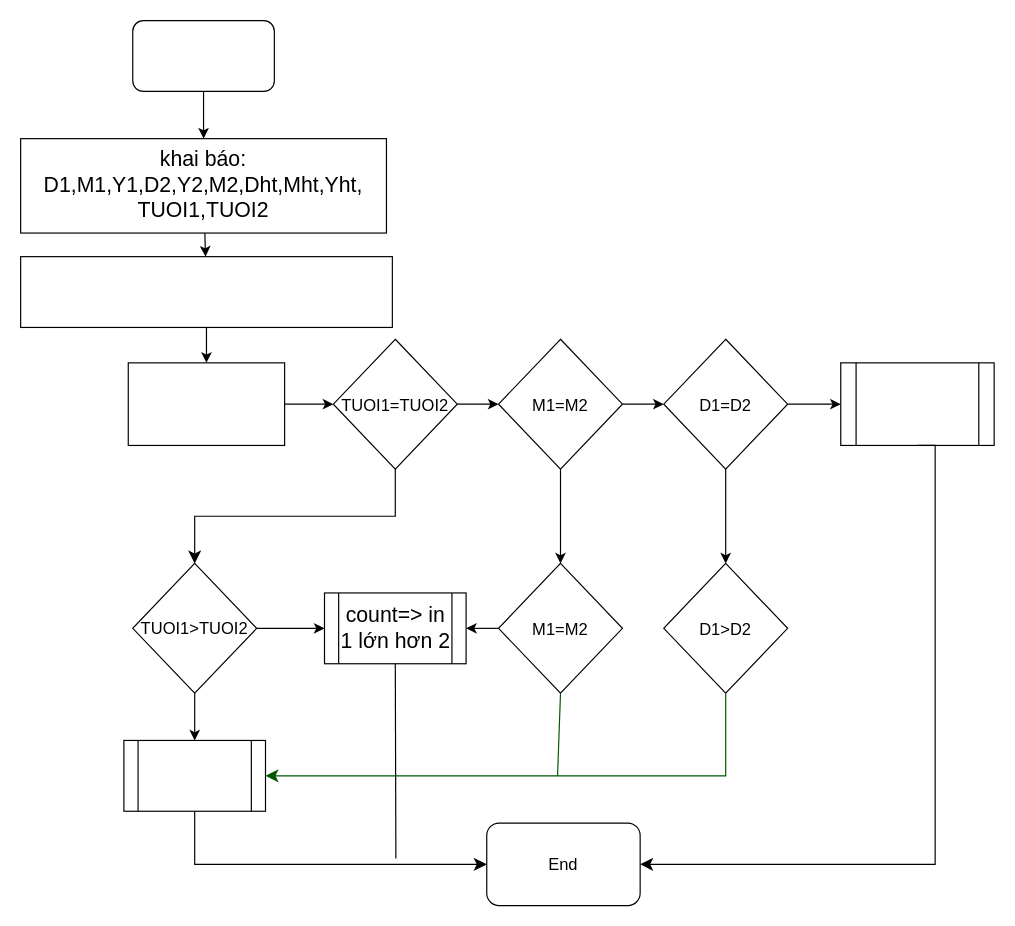
This 1015x926 diagram has some shape labels left out. Here are the shapes that lost their labels. From the top down, the centre of each, then its label:
At (203,55): "start".
At (205,291): "nhập D1,M1,Y1,D2,M2,Y2,Dht,Mht,Yht".
At (206,403): "TUOI1=Yht-Y1 TUOI2=Yht-Y1".
At (917,403): "count=>in1 bằng 2".
At (194,775): "count => in 1 nhỏ hơn 2".
